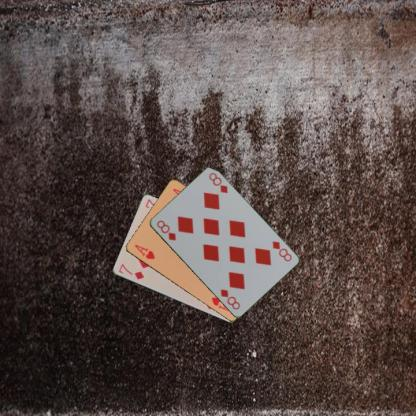7d: (116, 261, 145, 281)
8d: (154, 217, 177, 242), (270, 239, 292, 263)
Ah: (132, 242, 156, 261)
